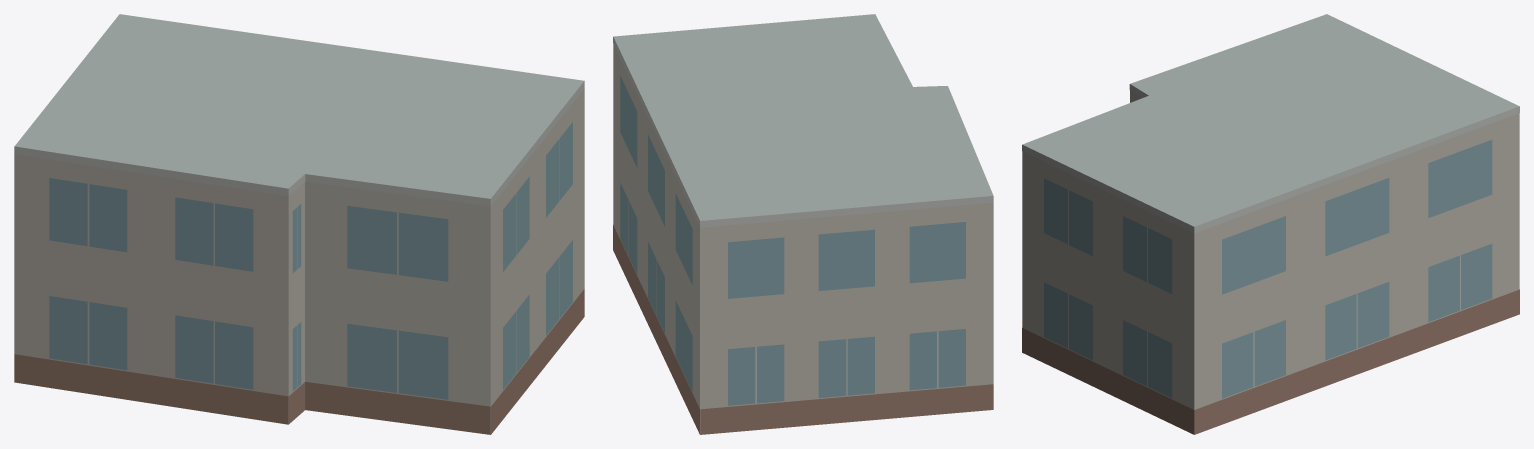
The model's file is survey-upis-32638918.glb.
3 views of the same model, side by side, from view 1: azimuth 30°, elevation 25°; view 2: azimuth 150°, elevation 25°; view 3: azimuth 270°, elevation 25° (orthographic). The views are drawn at different scales.
Parts seen in each view (by area): view 1: survey-upis-32638918.tmp; view 2: survey-upis-32638918.tmp; view 3: survey-upis-32638918.tmp.
Part boxes in pixels (box(x1,y1,x2,y2)): survey-upis-32638918.tmp: box(14, 14, 584, 434); survey-upis-32638918.tmp: box(613, 14, 993, 434); survey-upis-32638918.tmp: box(1022, 14, 1519, 434).
Size of the model in its own units: 16.91 by 7.7 by 16.7.
